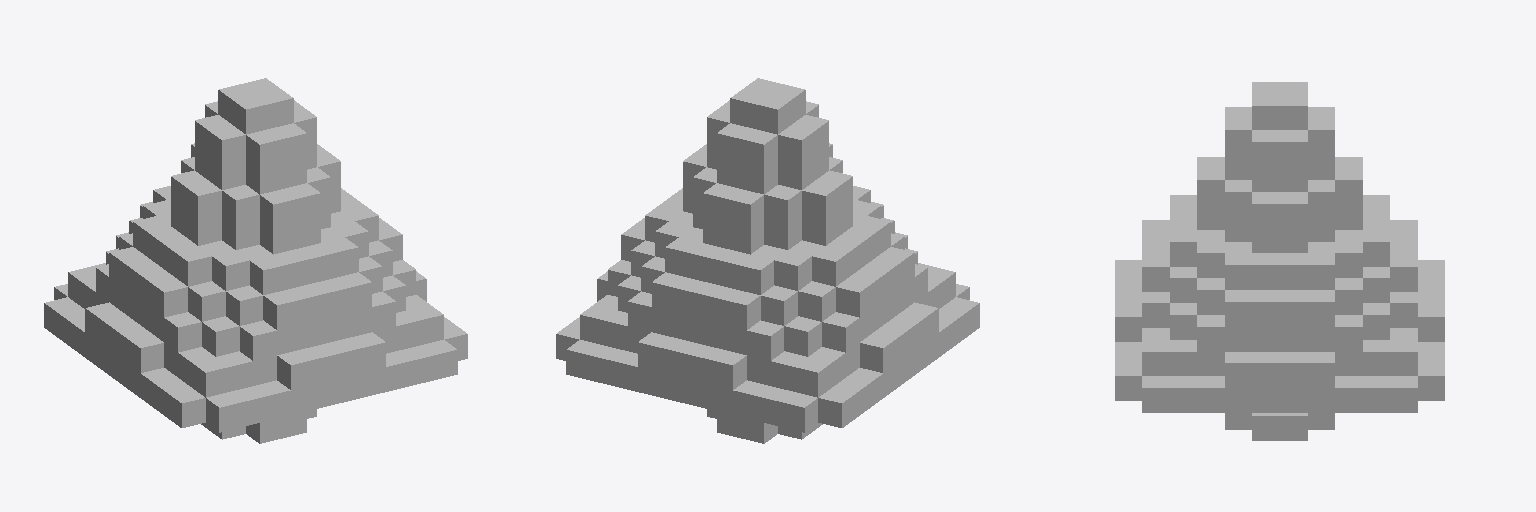
Rendered from Tree1.obj.
The picture shows the model from 3 angles: view 1: azimuth 30°, elevation 25°; view 2: azimuth 150°, elevation 25°; view 3: azimuth 270°, elevation 25°; orthographic projection.
Bounding box in the file's own units: 12 × 13 × 12.